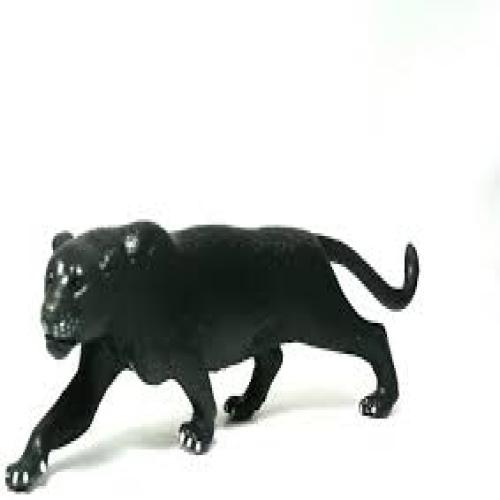panther-endangered: (7, 216, 419, 494)
